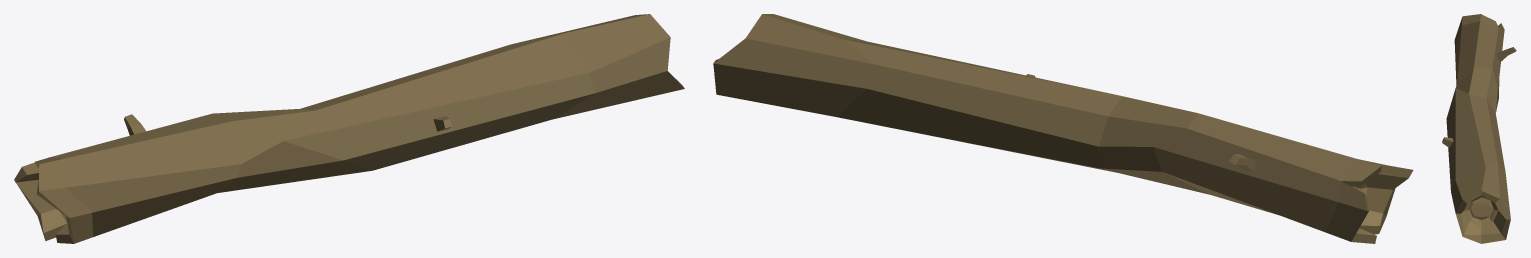
The model's file is Log_1.fbx.
The picture shows the model from 3 angles, left to right: view 1: azimuth 30°, elevation 25°; view 2: azimuth 150°, elevation 25°; view 3: azimuth 270°, elevation 25°; orthographic projection. The views are drawn at different scales.
Visible parts, largest first — view 1: Log_1; view 2: Log_1; view 3: Log_1.
Part boxes in pixels (x1=…): Log_1: x1=14, y1=14, x2=684, y2=243; Log_1: x1=713, y1=14, x2=1413, y2=243; Log_1: x1=1442, y1=14, x2=1516, y2=243.
Size of the model in its own units: 572 by 67.86 by 95.
